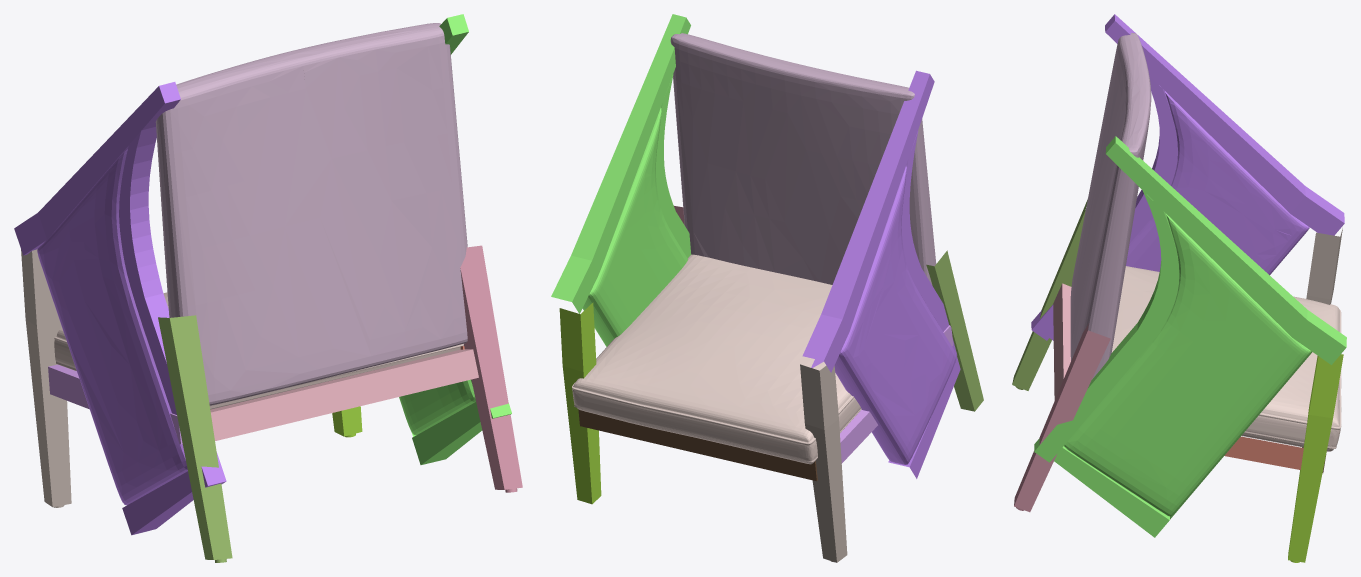
3 renders of one model, left to right at view 1: azimuth 30°, elevation 25°; view 2: azimuth 150°, elevation 25°; view 3: azimuth 270°, elevation 25°, orthographic. The views are drawn at different scales.
Visible parts, largest first — view 1: world; view 2: world; view 3: world.
Part boxes in pixels (x1,y1,x2,y2): world: [14, 14, 522, 562]; world: [551, 14, 983, 562]; world: [1012, 14, 1346, 562].
Size of the model in its own units: 0.5983 by 0.8832 by 0.6312.
